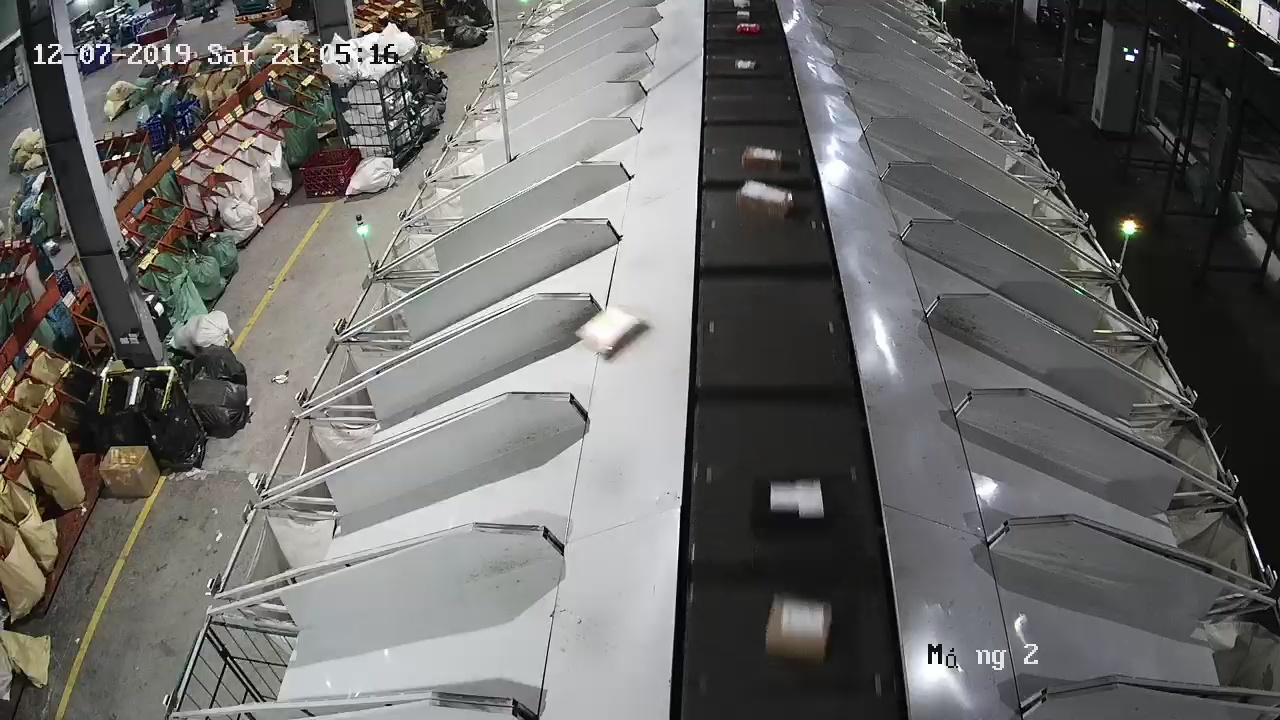parcel: (574, 306, 641, 361)
